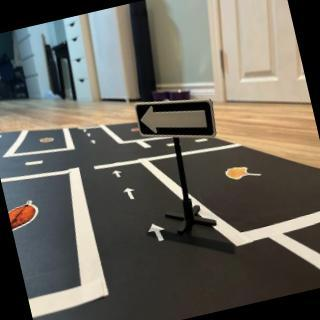road_oneway: (143, 216, 171, 248), (122, 184, 140, 208), (112, 167, 128, 183), (89, 138, 100, 148), (86, 132, 93, 139)
sign_oneway_left: (133, 86, 222, 156)
